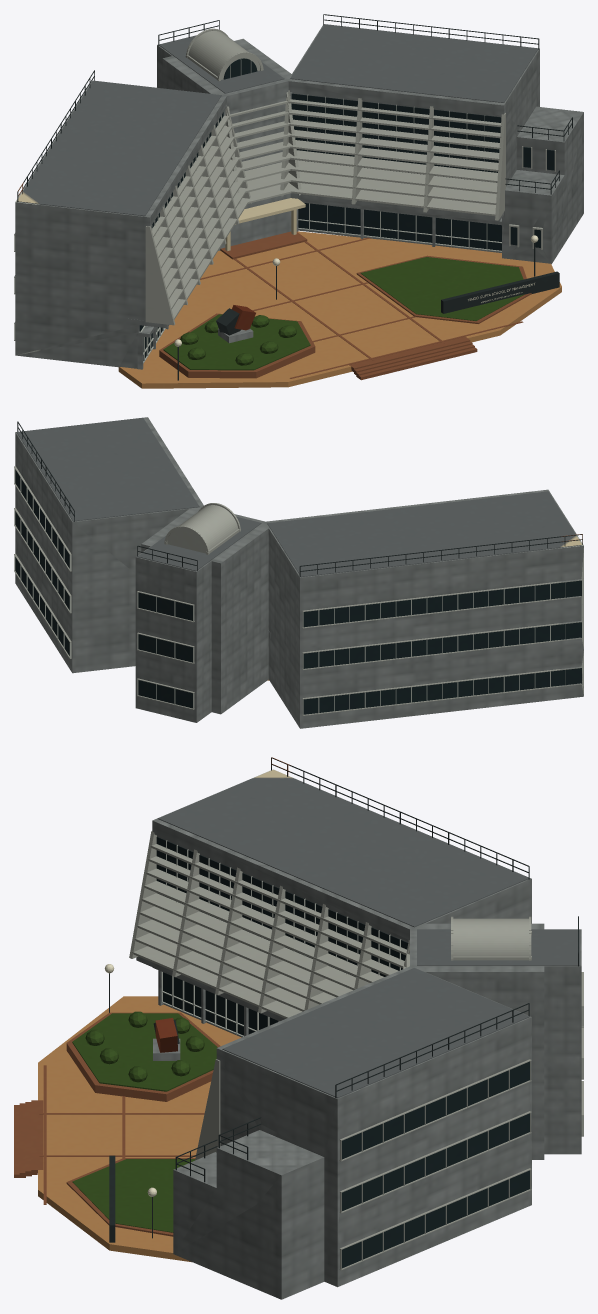
File: VGSOM.glb
3 renders of one model, top to bottom at view 1: azimuth 30°, elevation 25°; view 2: azimuth 150°, elevation 25°; view 3: azimuth 270°, elevation 25°, orthographic. The views are drawn at different scales.
Visible parts, largest first — view 1: VGSoM | watertight building; view 2: VGSoM | watertight building; view 3: VGSoM | watertight building.
Part boxes in pixels (box(x1,y1,x2,y2)): VGSoM | watertight building: box(14, 14, 583, 388); VGSoM | watertight building: box(14, 417, 583, 728); VGSoM | watertight building: box(14, 757, 583, 1299).
Bounding box in the file's own units: 56.63 × 17.25 × 39.84.
1 material, 1 textured.
